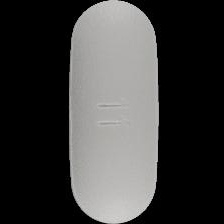50090-1228: (0, 0, 224, 224)
